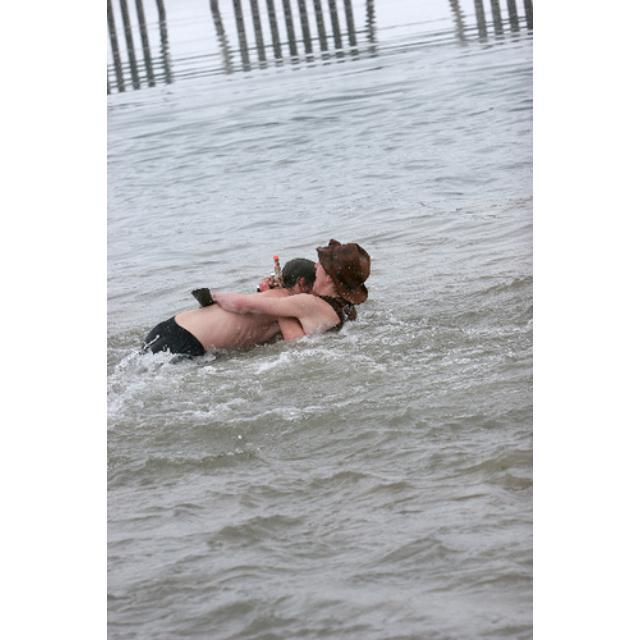human: (141, 228, 307, 366), (305, 241, 374, 348)
